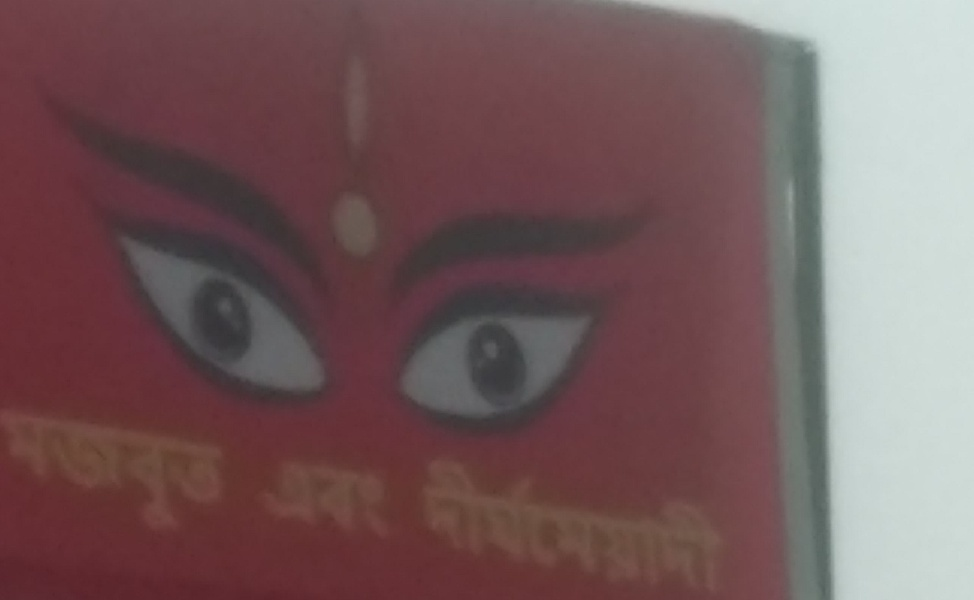text: (417, 451, 432, 599), (433, 451, 448, 599), (449, 451, 464, 599), (465, 451, 480, 599), (481, 451, 496, 599), (497, 451, 512, 599), (513, 451, 528, 599), (529, 451, 544, 599), (545, 451, 560, 599), (561, 451, 576, 599), (577, 451, 592, 599), (593, 451, 608, 599), (609, 451, 624, 599), (625, 451, 640, 599), (641, 451, 656, 599), (657, 451, 672, 599), (673, 451, 688, 599), (689, 451, 704, 599), (705, 451, 720, 599), (1, 406, 16, 551), (17, 406, 32, 551), (33, 406, 48, 551), (49, 406, 64, 551), (65, 406, 80, 551), (81, 406, 96, 551), (97, 406, 112, 551), (113, 406, 128, 551), (129, 406, 144, 551), (145, 406, 160, 551), (161, 406, 176, 551), (177, 406, 192, 551), (193, 406, 208, 551), (209, 406, 224, 551), (225, 406, 236, 551), (273, 451, 288, 551), (289, 451, 304, 551), (305, 451, 320, 551), (321, 451, 336, 551), (337, 451, 352, 551), (353, 451, 368, 551), (369, 451, 384, 551), (385, 451, 400, 551), (261, 451, 272, 551), (721, 451, 726, 599), (414, 451, 416, 599)
